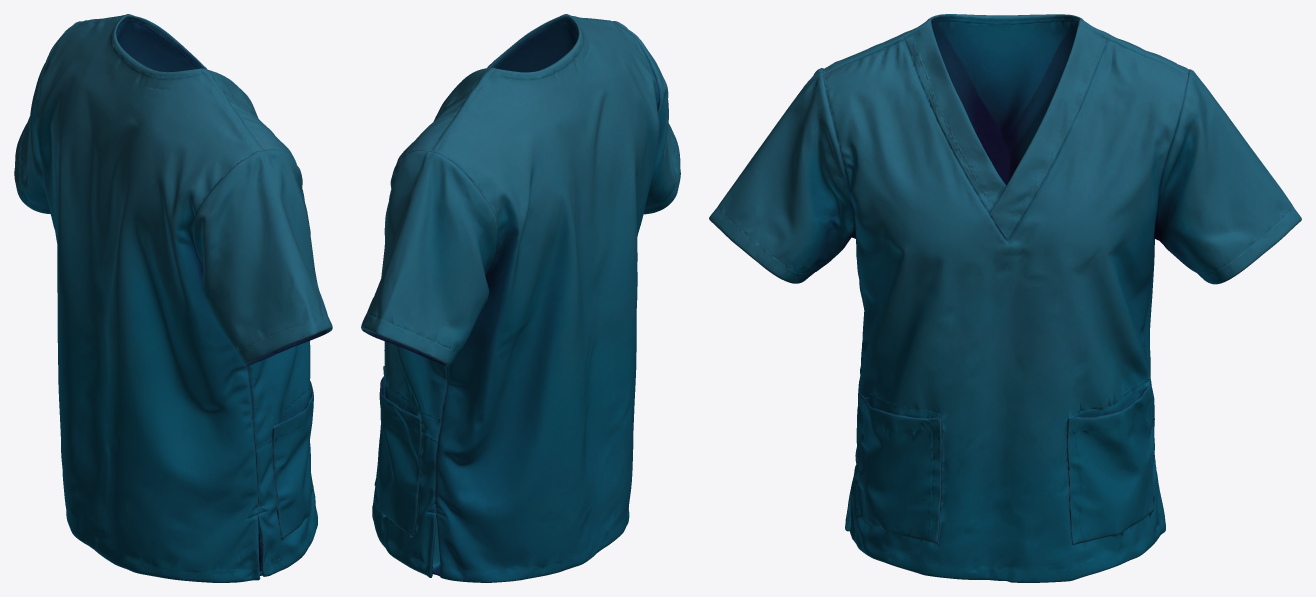
The model's file is UNIFORME-DE-SERVICIO.glb.
The picture shows the model from 3 angles, left to right: view 1: azimuth 30°, elevation 25°; view 2: azimuth 150°, elevation 25°; view 3: azimuth 270°, elevation 25°; orthographic projection. The views are drawn at different scales.
Visible parts, largest first — view 1: tripo_node_587d1d07-fcd7-424e-af87-697291cecf5e; view 2: tripo_node_587d1d07-fcd7-424e-af87-697291cecf5e; view 3: tripo_node_587d1d07-fcd7-424e-af87-697291cecf5e.
Part boxes in pixels (x1=…): tripo_node_587d1d07-fcd7-424e-af87-697291cecf5e: x1=14, y1=14, x2=332, y2=582; tripo_node_587d1d07-fcd7-424e-af87-697291cecf5e: x1=361, y1=14, x2=680, y2=582; tripo_node_587d1d07-fcd7-424e-af87-697291cecf5e: x1=709, y1=14, x2=1301, y2=582.
Bounding box in the file's own units: 0.4068 × 0.9262 × 0.979.
1 material, 1 textured.
